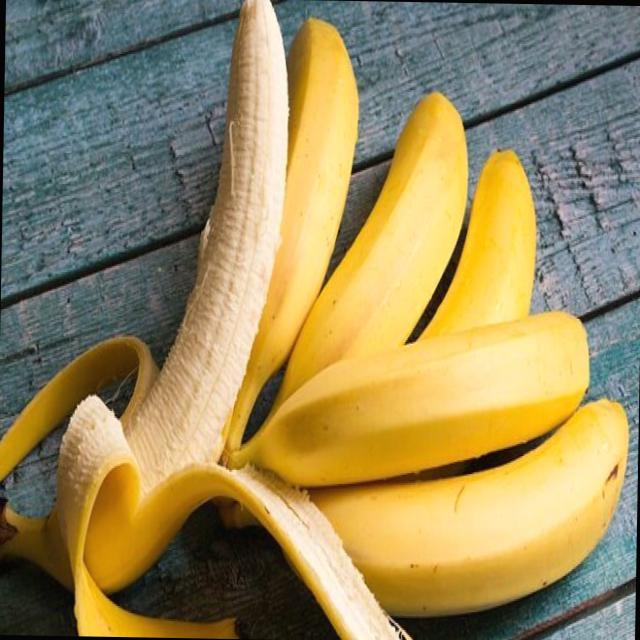chuoi: (0, 0, 628, 640)
